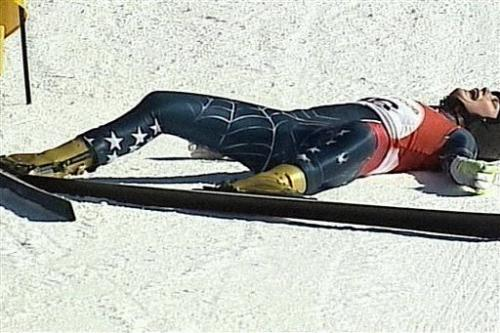fall: (5, 71, 497, 219)
